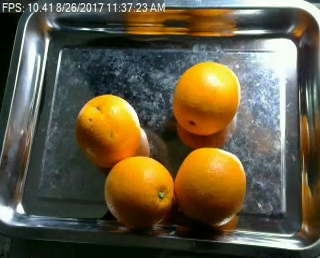Orange: (175, 146, 247, 224), (102, 155, 173, 228), (173, 60, 241, 135), (76, 93, 142, 167)
